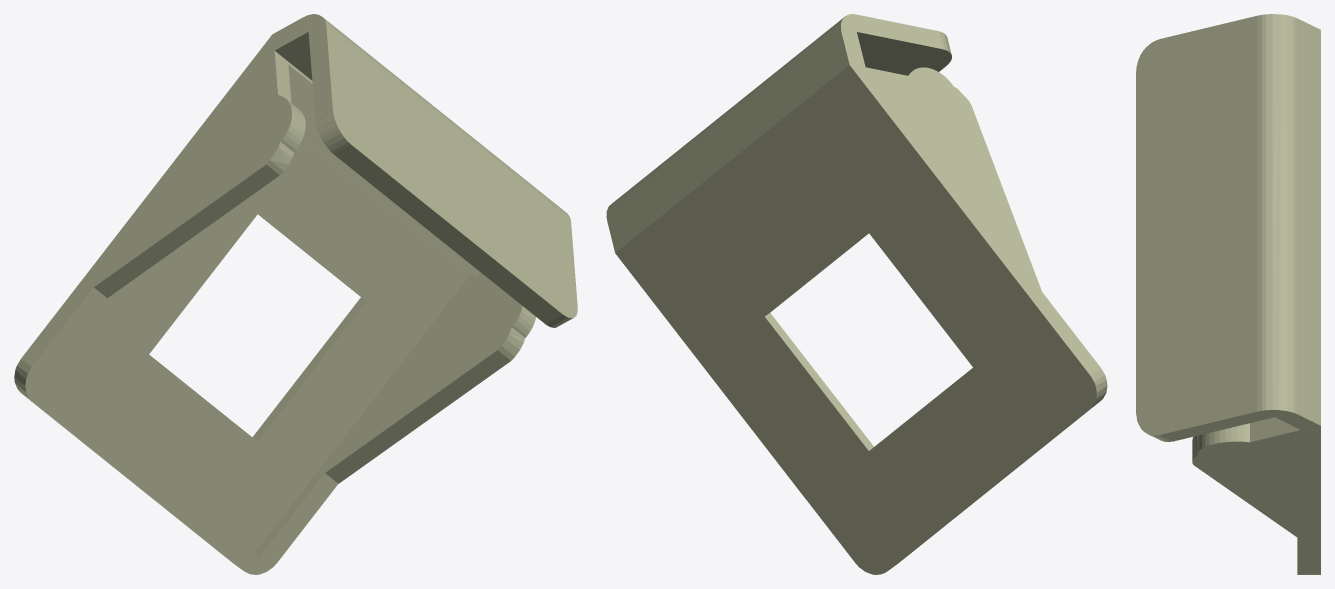
Rendered from tinker.obj.
The picture shows the model from 3 angles, left to right: view 1: azimuth 30°, elevation 25°; view 2: azimuth 150°, elevation 25°; view 3: azimuth 270°, elevation 25°; orthographic projection. The views are drawn at different scales.
Visible parts, largest first — view 1: obj_0; view 2: obj_0; view 3: obj_0.
Part boxes in pixels (x1=…): obj_0: x1=14, y1=14, x2=577, y2=574; obj_0: x1=606, y1=14, x2=1107, y2=574; obj_0: x1=1136, y1=14, x2=1320, y2=574.
Bounding box in the file's own units: 87.45 × 87.44 × 25.05.
